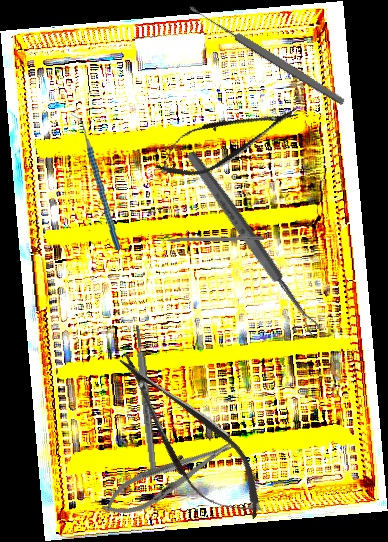Chopper: (63, 112, 128, 251)
Hook Surgical: (152, 235, 265, 242)
Micro Scissor: (96, 336, 282, 538), (146, 88, 308, 191)
Needle Holder: (95, 428, 243, 528)
Scalpel Handle: (133, 324, 158, 476)
Surgical Spoon: (184, 149, 321, 336), (186, 1, 348, 108)
